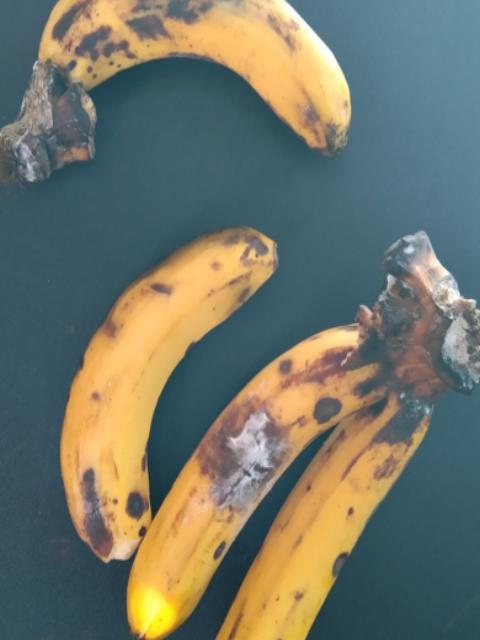overripe: (97, 321, 387, 632), (39, 211, 293, 554), (200, 382, 444, 639), (34, 0, 373, 142)
rotten: (175, 363, 320, 523)
